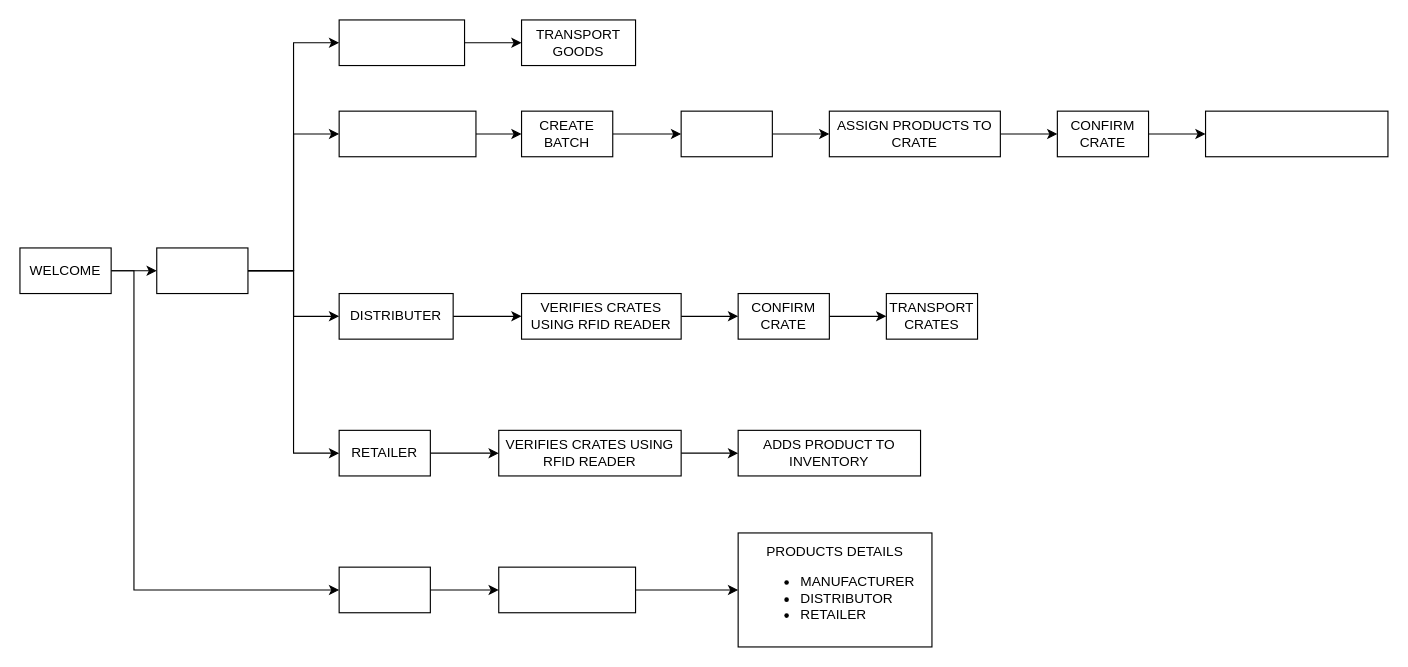
The diagram is 1408 pixels wide and 667 high, and some of its shapes have lost their labels. Here are the shapes that lost their labels. From the top down, the centre of each, then its label:
At point (401, 42): "TRANSPORTER".
At point (407, 133): "MANUFACTURER".
At point (726, 133): "ADDS RFID TAG".
At point (1296, 133): "TRANSPORT BATCH OF CRATE".
At point (202, 270): "LOGIN".
At point (384, 589): "USER".
At point (567, 589): "ENTERS THE UNIQUE CODE".
